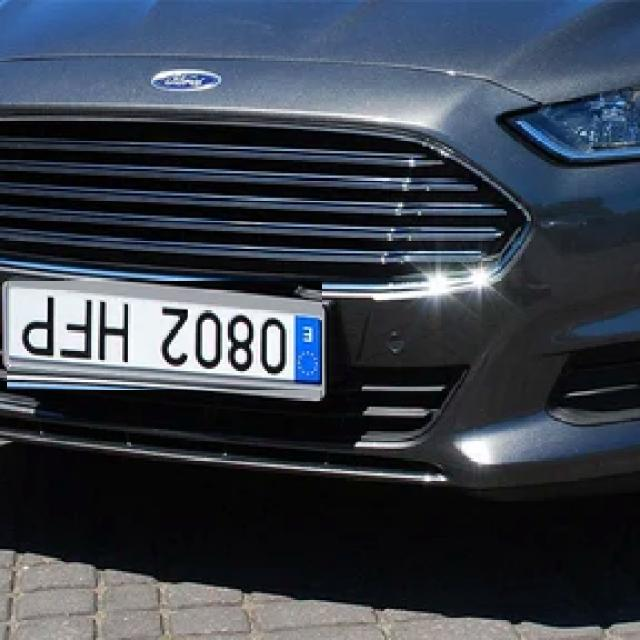License-Plate: (6, 280, 322, 390)
